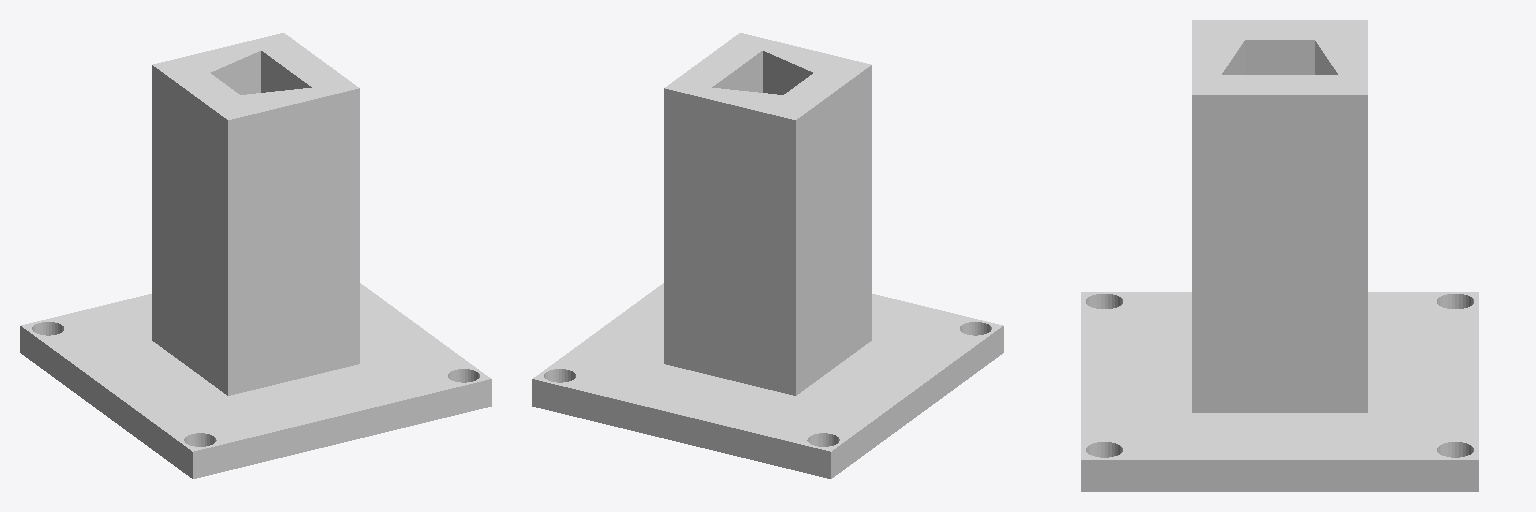
The robot description file, URDF, robot "base":
<?xml version="1.0" ?>

<robot name="base">
	<link name="base">
<!-- 	    <contact>
	      <stiffness value="40000000.0"/>
	      <damping value="400000.0"/>
	      <lateral_friction value="0.07"/>
	      <spinning_friction value="0"/>
	      <rolling_friction value="0"/>
	    </contact> -->
		<inertial>
			<origin xyz="0 0 0"/>
			<mass value="0.1"/>
			<inertia ixx="0.1" ixy="0" ixz="0" iyy="0.1" iyz="0" izz="0.1"/>
		</inertial>
		<visual>
			<origin rpy="0 0 0" xyz="0 0 0"/>
	      	<geometry>
	      		<!-- <cylinder length="0.001" radius="0.001"/> -->
	        	<mesh filename="base.obj"/>
	      	</geometry>
	  		<material name="panda_white">
	  			<color rgba="0.91 0.91 0.91 1."/>
				</material>
		</visual>
		<collision concave="yes">
	  		<origin rpy="0 0 0" xyz="0 0 0"/>
	  		<geometry>
	  			<!-- <cylinder length="0.001" radius="0.001"/> -->
	    		<mesh filename="base.obj"/>
	  		</geometry>
	  		<material name="panda_white"/>
		</collision>
	</link>

</robot>

--- Facts derived from the render (not from the file) ---
The picture shows the robot from 3 angles, left to right: view 1: azimuth 30°, elevation 25°; view 2: azimuth 150°, elevation 25°; view 3: azimuth 270°, elevation 25°; orthographic projection.
Model base with 1 links and 0 joints (none), rooted at base, posed every joint at zero.
Links seen in each view (by area): view 1: base; view 2: base; view 3: base.
Boxes of the visible links, bbox=[...] form: base: bbox=[20, 33, 491, 478]; base: bbox=[532, 33, 1003, 478]; base: bbox=[1081, 20, 1478, 491].
Bounding box of the posed robot: 0.068 × 0.068 × 0.066 m (x, y, z).
Meshes: 1 distinct files referenced, 1 mesh visuals loaded (1 OBJ).